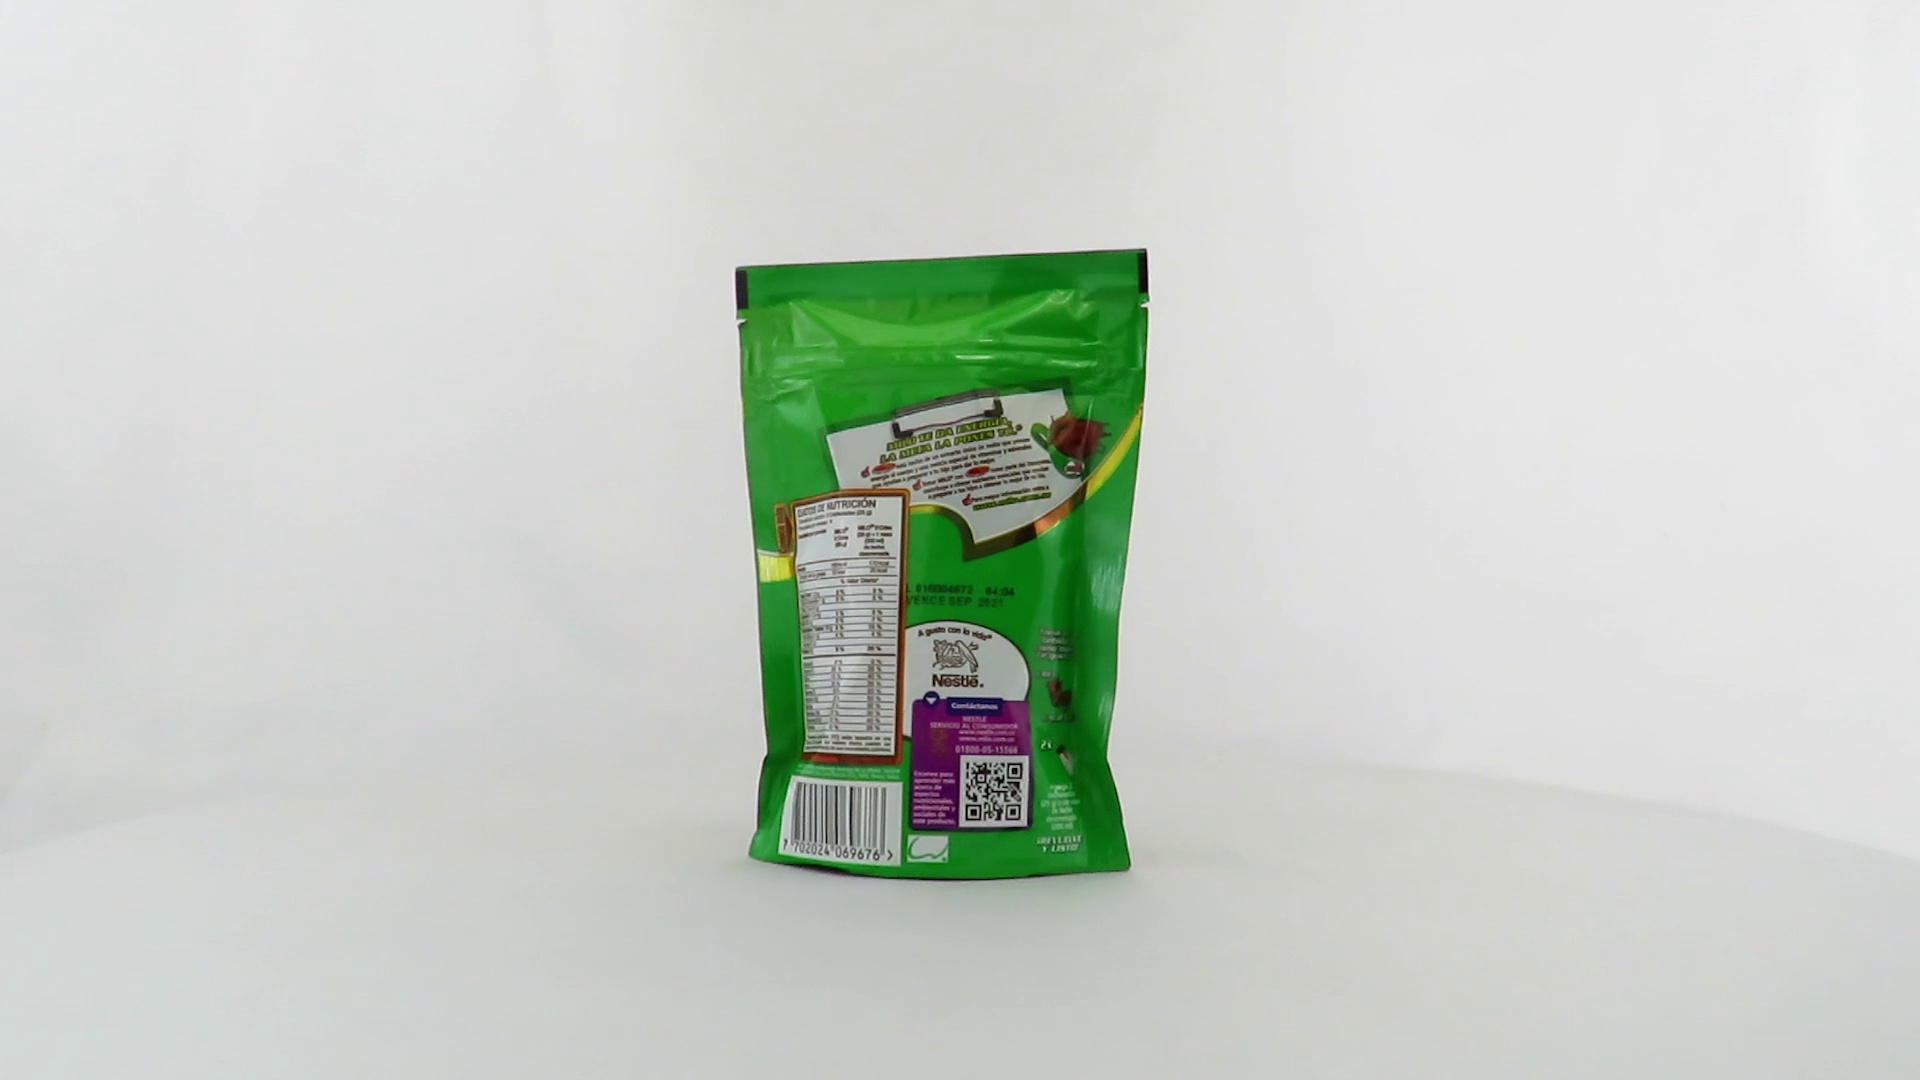COL0170203DYP10000: (731, 243, 1156, 887)
